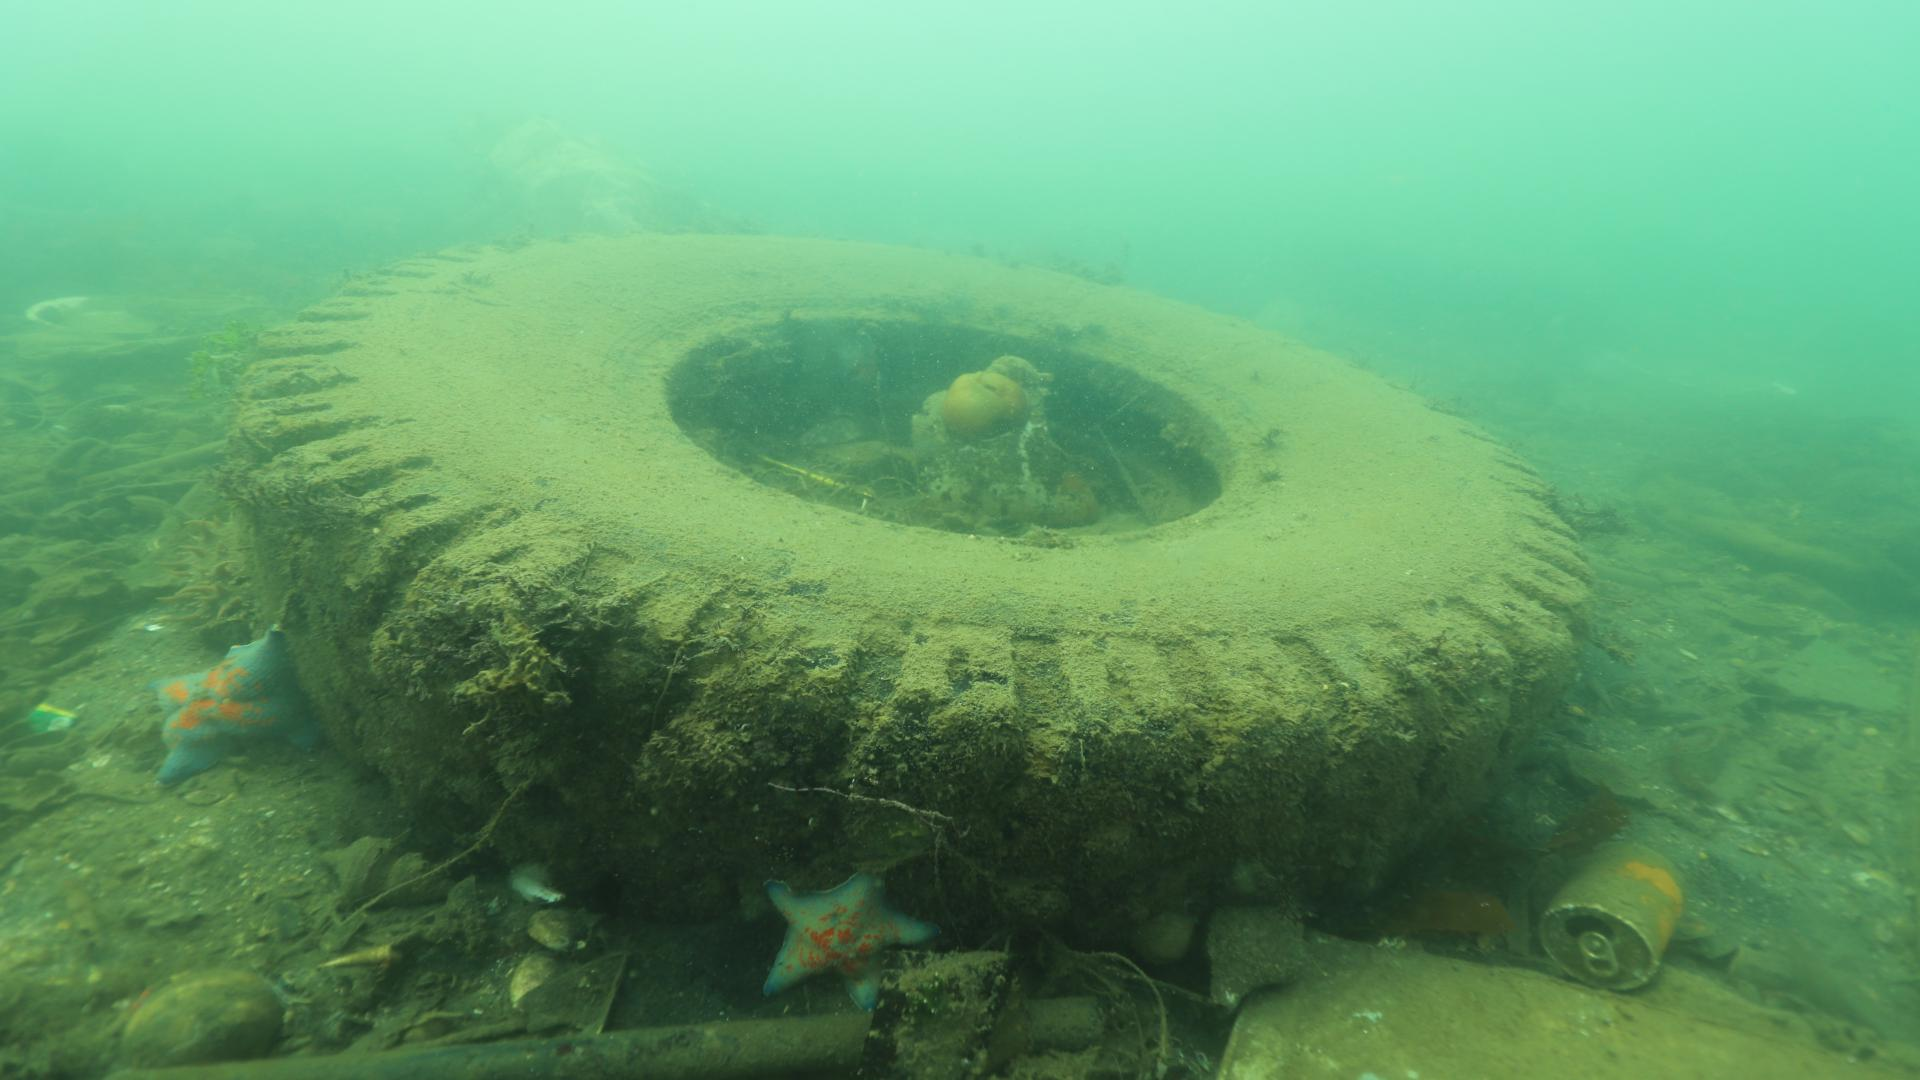tire: (231, 220, 1596, 930)
